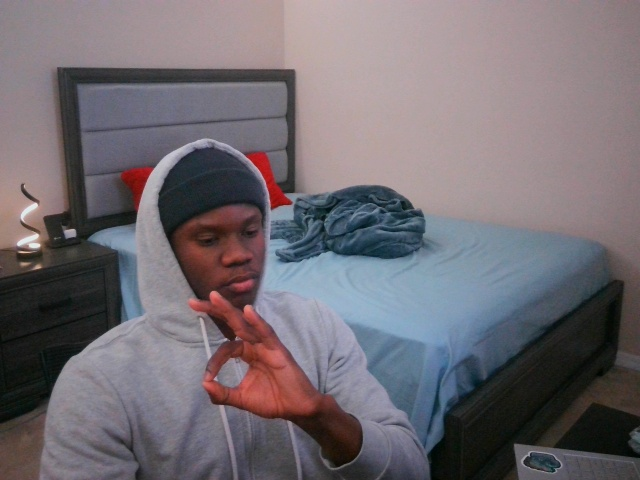OK: (187, 289, 323, 427)
